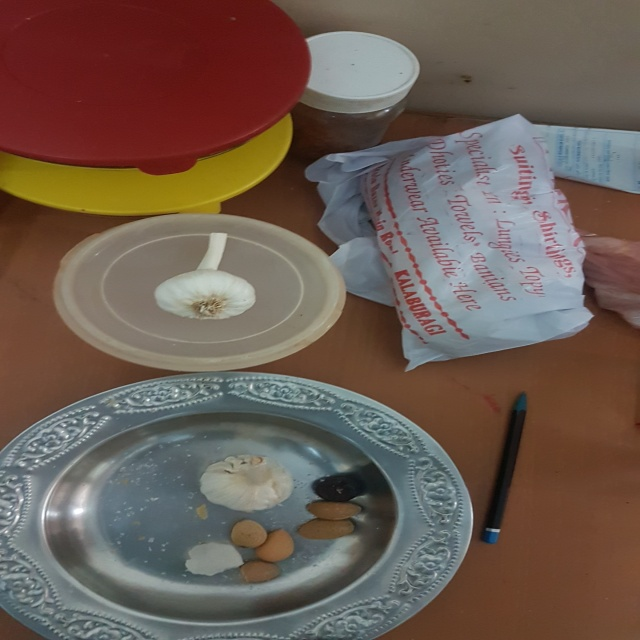garlic: (152, 223, 266, 322), (188, 451, 300, 516)
